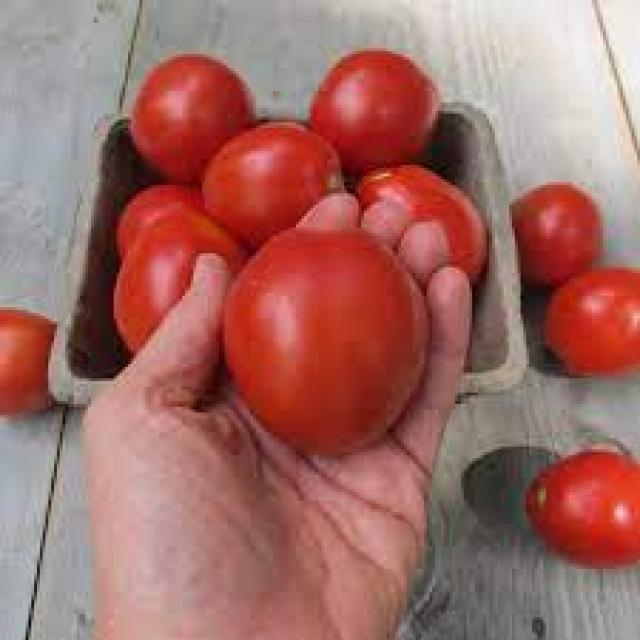Fresh_tomato: (246, 219, 421, 438), (116, 182, 236, 354), (364, 172, 516, 292), (522, 441, 640, 587), (318, 39, 448, 169), (127, 56, 251, 165), (211, 132, 341, 235), (539, 260, 639, 389), (3, 307, 82, 426), (518, 188, 602, 289)
